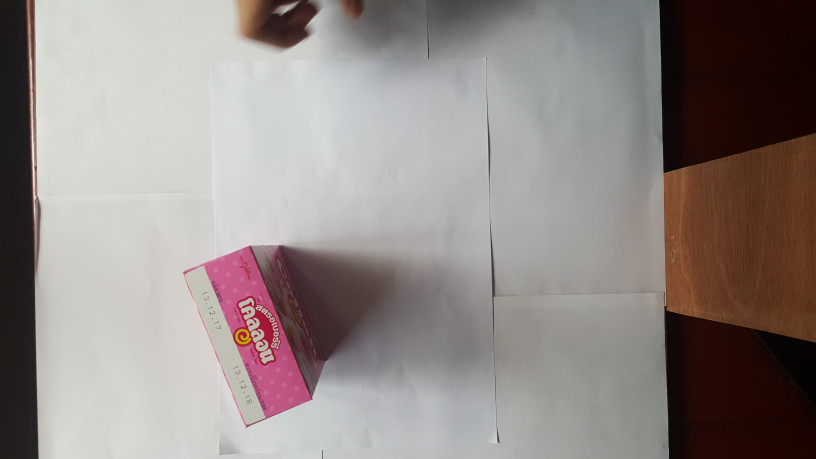collon-strawberry: (185, 240, 327, 429)
